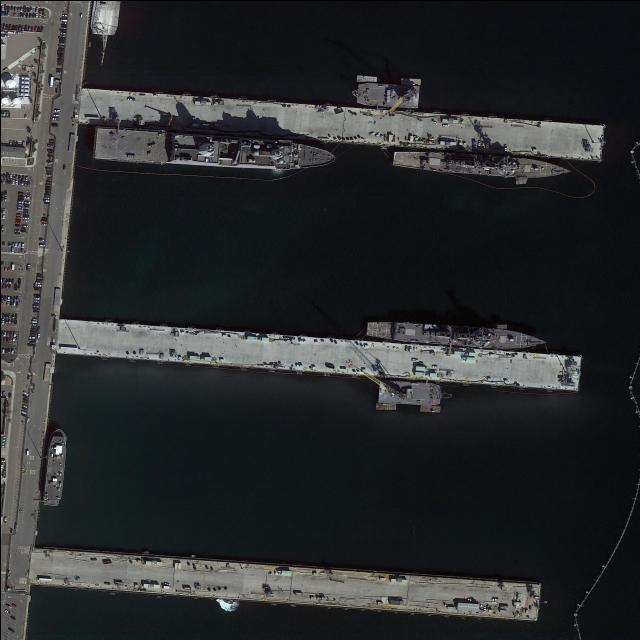large-vehicle: (48, 76, 53, 87), (162, 585, 171, 589), (25, 449, 28, 455)
ship: (93, 127, 336, 173), (391, 148, 572, 183), (365, 318, 547, 351), (41, 428, 68, 505), (376, 378, 442, 405), (354, 81, 420, 108), (395, 89, 415, 103), (355, 74, 377, 83), (374, 402, 396, 410), (399, 77, 421, 85), (419, 404, 440, 412), (495, 323, 506, 329), (222, 598, 232, 604)
small-vehicle: (430, 118, 437, 125), (7, 626, 14, 632), (4, 602, 11, 608), (10, 602, 17, 608), (20, 405, 26, 411), (19, 411, 25, 417), (9, 614, 15, 620), (20, 409, 26, 415), (21, 399, 27, 405), (21, 392, 27, 398), (9, 347, 14, 354), (373, 132, 380, 137), (502, 144, 507, 151), (2, 516, 7, 523), (466, 597, 474, 601), (6, 30, 14, 34), (3, 608, 9, 613), (8, 330, 13, 336), (22, 390, 28, 395), (347, 109, 353, 114), (5, 10, 10, 16), (1, 390, 5, 397), (61, 163, 65, 170), (57, 41, 64, 45), (163, 582, 170, 586), (54, 78, 61, 82), (26, 263, 30, 270), (40, 219, 47, 223), (47, 138, 54, 142), (46, 151, 53, 155), (126, 97, 135, 100), (186, 116, 195, 119), (21, 403, 26, 408), (22, 396, 27, 401), (10, 179, 15, 184), (29, 25, 34, 30), (9, 318, 13, 324), (5, 330, 9, 336), (12, 330, 16, 336), (0, 347, 4, 353), (3, 347, 7, 353), (6, 348, 10, 354), (6, 391, 10, 397), (14, 295, 18, 301), (26, 180, 30, 186), (1, 208, 5, 214), (20, 242, 24, 248), (10, 246, 14, 252), (3, 265, 7, 271), (61, 15, 67, 19), (410, 358, 418, 361), (368, 131, 374, 135), (53, 109, 61, 112), (30, 319, 36, 323), (51, 117, 59, 120), (36, 332, 40, 338), (29, 327, 35, 331), (4, 277, 8, 283), (35, 275, 41, 279), (44, 182, 50, 186), (17, 192, 25, 195), (50, 123, 58, 126), (0, 34, 8, 37), (1, 22, 5, 28), (15, 31, 23, 34), (8, 139, 12, 145), (25, 140, 29, 146), (11, 173, 15, 179), (14, 174, 18, 180), (57, 46, 63, 50), (39, 25, 43, 31), (9, 5, 13, 11), (28, 6, 32, 12), (37, 7, 41, 13), (16, 200, 23, 203), (22, 206, 29, 209), (15, 205, 22, 208), (14, 216, 21, 219), (59, 18, 66, 21), (491, 597, 498, 600), (441, 123, 448, 126), (29, 322, 36, 325), (33, 283, 40, 286), (47, 141, 54, 144), (28, 330, 35, 333), (27, 341, 34, 344), (17, 197, 24, 200), (59, 23, 66, 26), (55, 68, 62, 71), (56, 60, 63, 63), (56, 57, 63, 60), (56, 55, 63, 58), (56, 49, 63, 52), (57, 44, 64, 47), (58, 36, 65, 39), (58, 28, 65, 31), (5, 300, 9, 305), (6, 318, 10, 323), (3, 318, 7, 323), (4, 336, 8, 341), (4, 283, 8, 288), (7, 241, 11, 246), (16, 242, 20, 247), (13, 313, 17, 318), (16, 284, 20, 289), (19, 247, 23, 252), (5, 173, 9, 178), (21, 6, 25, 11), (34, 12, 38, 17), (4, 23, 8, 28), (26, 25, 30, 30), (8, 173, 12, 178), (1, 178, 5, 183), (21, 11, 25, 16), (12, 11, 16, 16), (14, 24, 18, 29), (23, 25, 27, 30), (15, 6, 19, 11), (6, 295, 9, 301), (2, 294, 5, 300), (12, 301, 15, 307), (4, 312, 7, 318), (7, 312, 10, 318), (10, 312, 13, 318), (0, 318, 3, 324), (8, 336, 11, 342), (12, 295, 15, 301), (1, 283, 4, 289), (15, 213, 21, 216), (23, 195, 29, 198), (3, 190, 6, 196), (1, 213, 4, 219), (16, 208, 22, 211), (22, 216, 28, 219), (22, 219, 28, 222), (21, 224, 27, 227), (10, 241, 13, 247), (13, 241, 16, 247), (59, 34, 65, 37), (59, 31, 65, 34), (60, 26, 66, 29), (61, 13, 67, 16), (408, 346, 411, 352), (431, 365, 437, 368), (53, 113, 59, 116), (32, 304, 38, 307), (32, 299, 38, 302), (34, 281, 40, 284), (38, 243, 44, 246), (42, 196, 48, 199), (44, 173, 50, 176), (46, 160, 52, 163), (47, 144, 53, 147), (28, 332, 34, 335), (29, 325, 35, 328), (13, 318, 16, 324), (31, 307, 37, 310), (13, 283, 16, 289), (17, 278, 20, 284), (1, 277, 4, 283), (8, 277, 11, 283), (11, 277, 14, 283), (33, 288, 39, 291), (34, 278, 40, 281), (35, 272, 41, 275), (13, 229, 19, 232), (22, 211, 28, 214), (2, 172, 5, 178), (8, 178, 11, 184), (43, 186, 49, 189), (44, 180, 50, 183), (27, 343, 33, 346), (15, 218, 21, 221), (22, 208, 28, 211), (14, 223, 20, 226), (43, 193, 49, 196), (44, 190, 50, 193), (46, 148, 52, 151), (44, 170, 50, 173), (8, 23, 11, 29), (33, 25, 36, 31), (23, 113, 26, 119), (15, 140, 18, 146), (21, 140, 24, 146), (21, 174, 24, 180), (17, 174, 20, 180), (24, 174, 27, 180), (11, 23, 14, 29), (18, 24, 21, 30), (56, 62, 62, 65), (3, 10, 6, 16), (13, 5, 16, 11), (0, 4, 3, 10), (2, 331, 6, 335), (11, 337, 15, 341), (41, 199, 49, 201), (16, 195, 24, 197), (1, 336, 4, 341), (3, 196, 6, 201), (24, 200, 29, 203), (15, 221, 20, 224), (0, 260, 3, 265), (6, 266, 9, 271), (477, 140, 480, 145), (31, 317, 36, 320), (40, 222, 45, 225), (23, 180, 26, 185), (20, 180, 23, 185), (17, 180, 20, 185), (14, 180, 17, 185), (7, 283, 10, 288), (4, 178, 7, 183), (28, 338, 33, 341), (25, 6, 28, 11), (1, 240, 4, 245), (43, 201, 48, 204), (45, 167, 50, 170), (28, 12, 31, 17), (31, 12, 34, 17), (21, 25, 24, 30), (11, 140, 14, 145), (36, 26, 39, 31), (18, 11, 21, 16), (19, 6, 22, 11), (34, 7, 37, 12), (0, 10, 3, 15), (13, 232, 20, 234), (19, 229, 26, 231), (56, 52, 63, 54), (9, 300, 11, 306), (16, 203, 22, 205), (55, 71, 61, 73), (60, 21, 66, 23), (32, 297, 38, 299), (28, 336, 34, 338), (20, 227, 26, 229), (40, 217, 46, 219), (25, 12, 28, 16), (38, 13, 40, 17)
